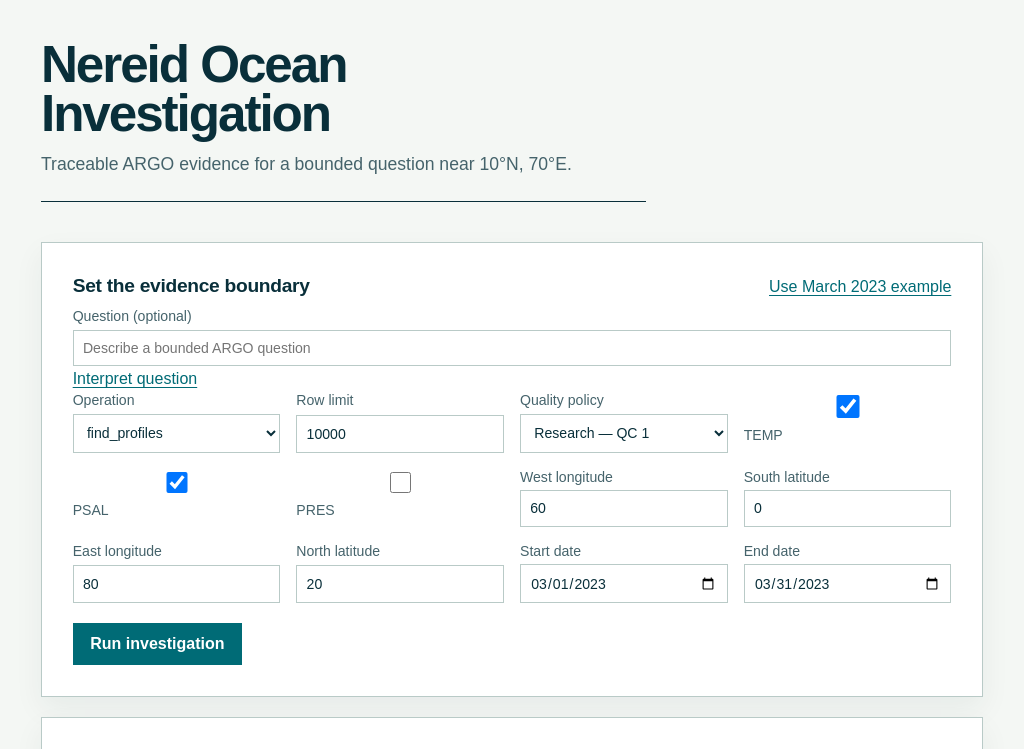
shows that explicit filters still work when AI interpretation is unavailable
The width and height of the screenshot is (1024, 749).
Type "Find profiles near 10N" into the field labelled "Question (optional)" at (512, 348), box left=73, top=330, right=951, bottom=366
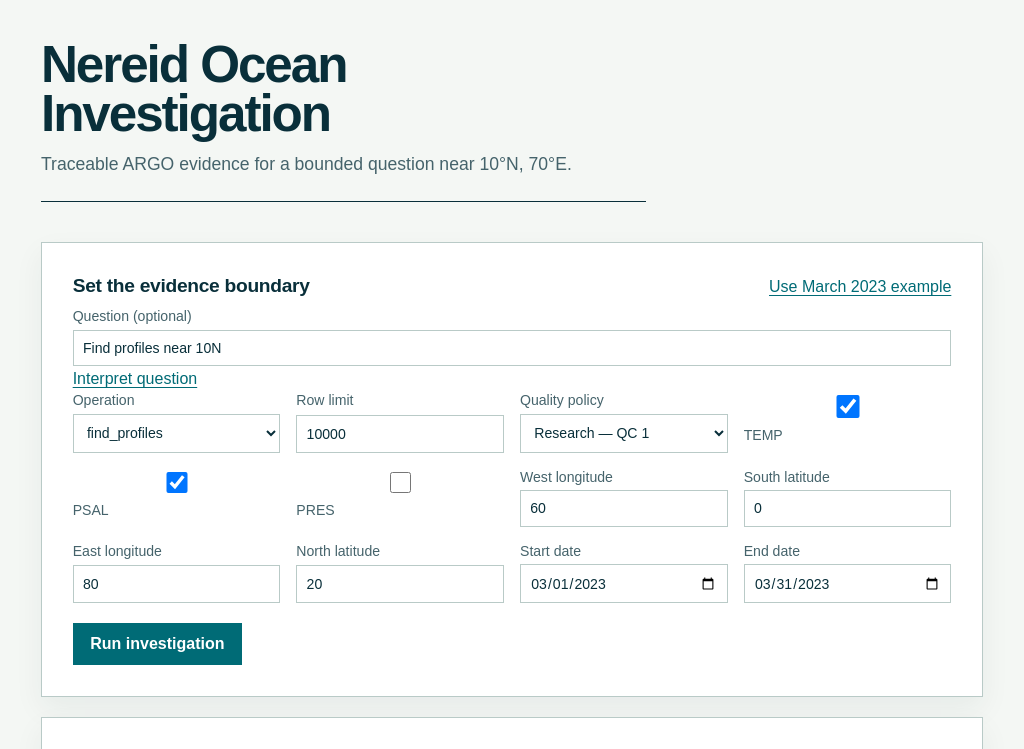
Click the button "Interpret question" at (135, 380), box left=73, top=366, right=197, bottom=392
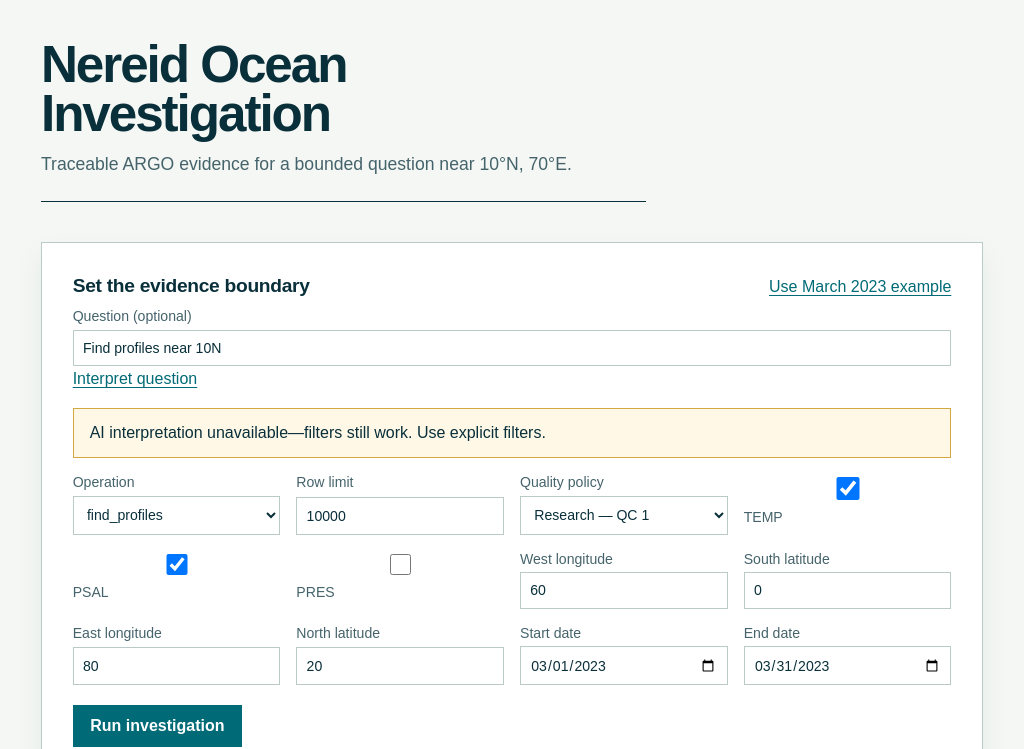
Expected: the message shows "AI interpretation unavailable—filters still work", left=90, top=424, right=546, bottom=442
